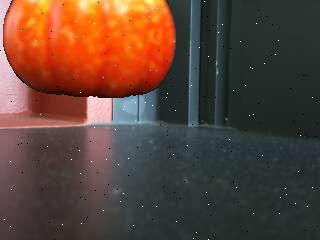Pumpkin: (2, 0, 179, 100)
